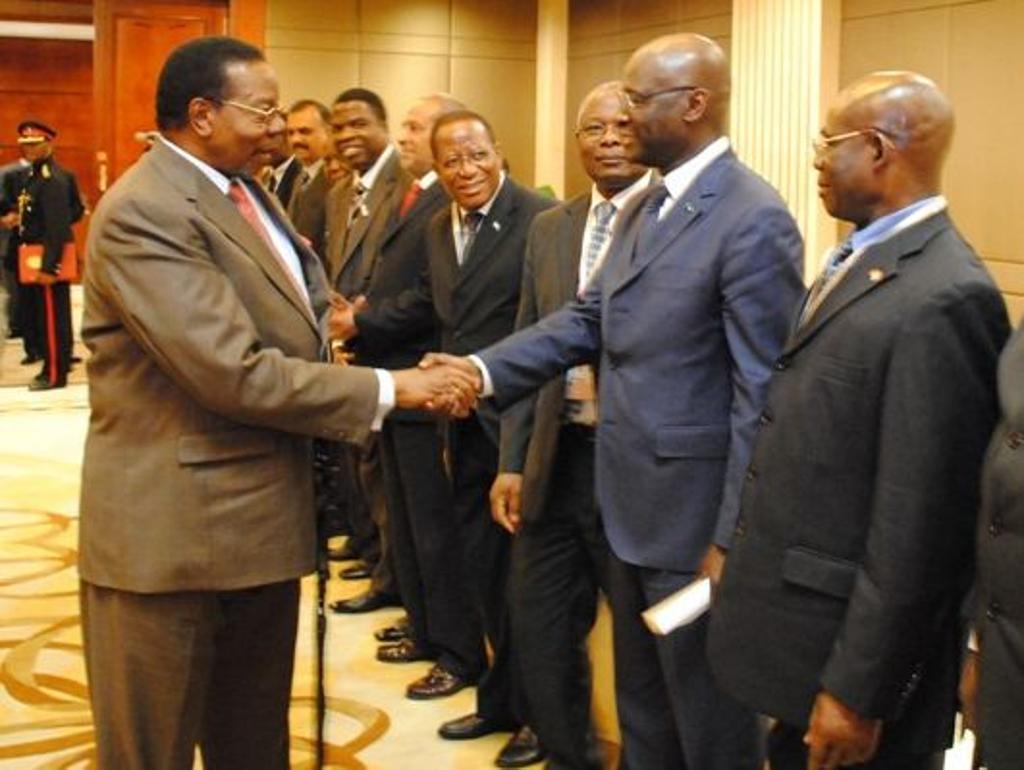face: (209, 70, 283, 176), (612, 67, 687, 161), (812, 109, 871, 216), (578, 95, 648, 183), (434, 136, 498, 207), (330, 102, 382, 163), (397, 104, 434, 170), (284, 113, 325, 159), (22, 135, 46, 160)
